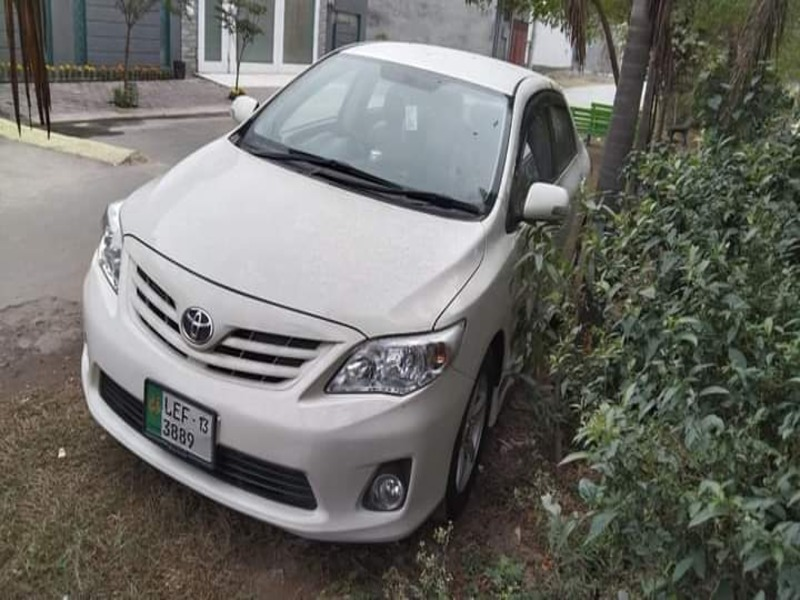License Plate: (141, 378, 222, 467)
